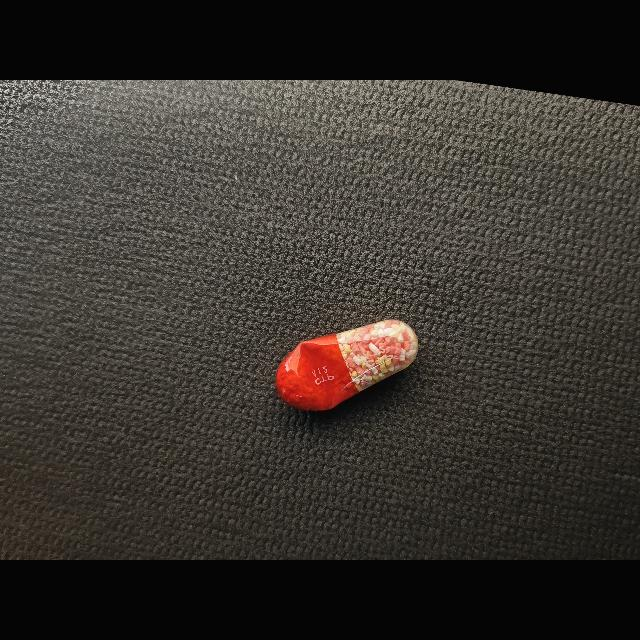Defective Capsule: (276, 319, 419, 411)
